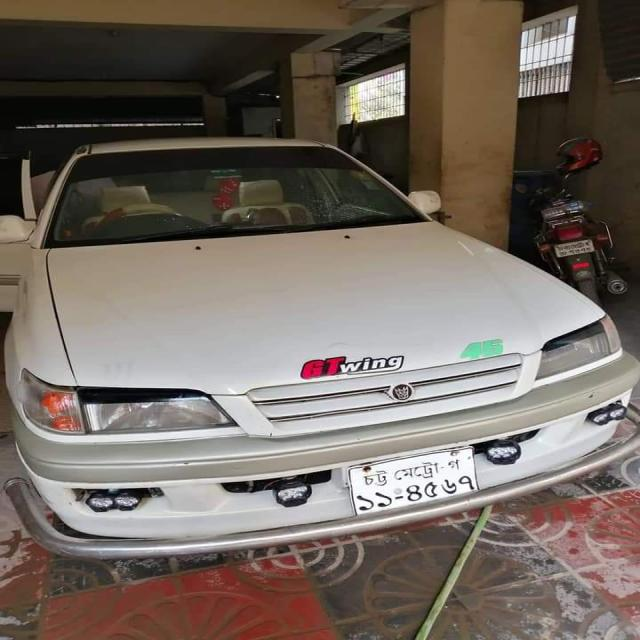white: (4, 123, 640, 540)
